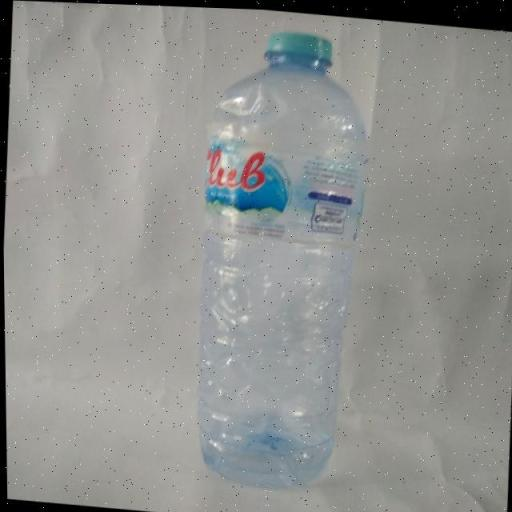plastic: (179, 19, 377, 497)
